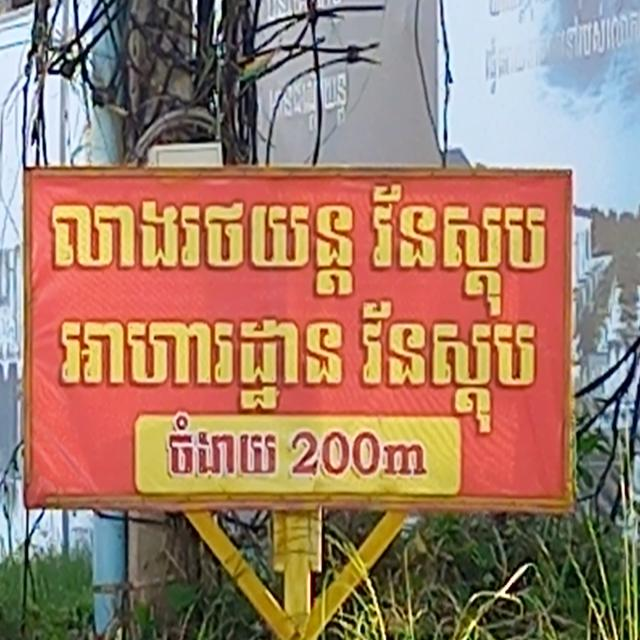1: (54, 298, 543, 441)
643: (289, 424, 385, 482)
Yolov11kh: (46, 183, 551, 316), (160, 413, 283, 487)
